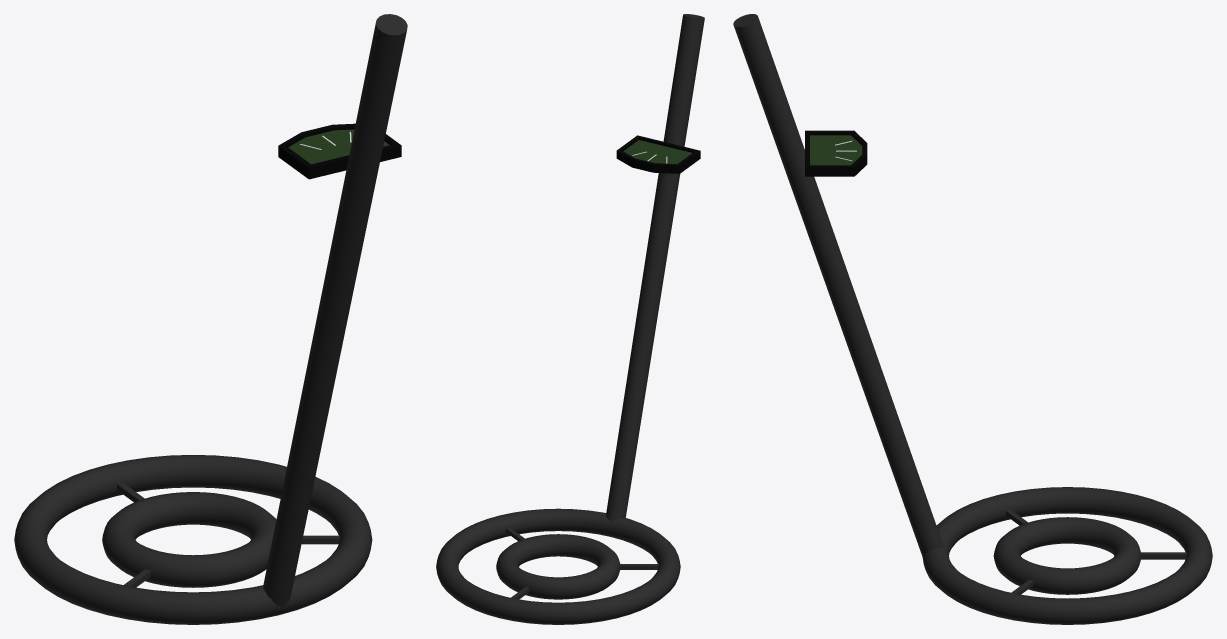
The model's file is metal_detector.glb.
The picture shows the model from 3 angles, left to right: view 1: azimuth 30°, elevation 25°; view 2: azimuth 150°, elevation 25°; view 3: azimuth 270°, elevation 25°; orthographic projection. The views are drawn at different scales.
Parts seen in each view (by area): view 1: Metal Detector; view 2: Metal Detector; view 3: Metal Detector.
Boxes of the visible parts, x1,y1,x2,y2 form: Metal Detector: [14, 14, 407, 624]; Metal Detector: [436, 14, 704, 624]; Metal Detector: [733, 14, 1212, 624].
Bounding box in the file's own units: 1.09 × 2.29 × 1.8.
